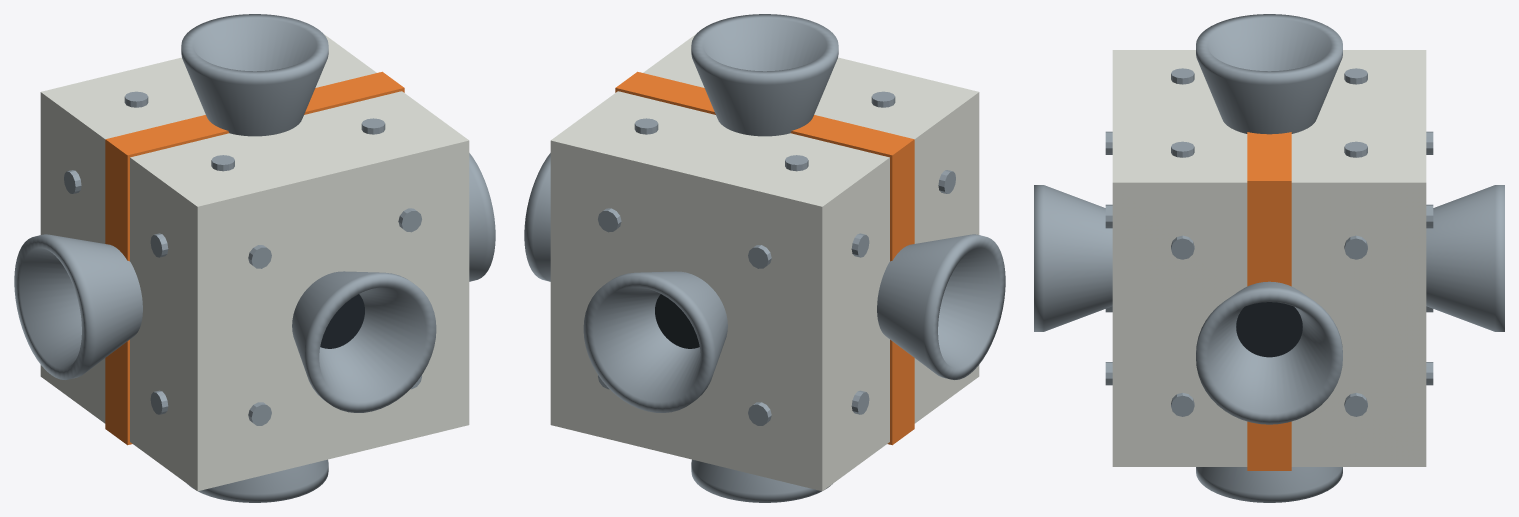
Rendered from rcs.glb.
3 renders of one model, left to right at view 1: azimuth 30°, elevation 25°; view 2: azimuth 150°, elevation 25°; view 3: azimuth 270°, elevation 25°, orthographic.
Visible parts, largest first — view 1: Integrated 12 kg monopropellant reservoir, Nozzle exhaust 2 1, Nozzle exhaust 0 -1, Nozzle exhaust 1 1, Service band, Nozzle exhaust 1 -1, Nozzle exhaust 0 1, Recessed injector.005; view 2: Integrated 12 kg monopropellant reservoir, Nozzle exhaust 2 -1, Nozzle exhaust 0 -1, Nozzle exhaust 1 1, Service band, Nozzle exhaust 1 -1, Nozzle exhaust 0 1, Recessed injector.004; view 3: Integrated 12 kg monopropellant reservoir, Nozzle exhaust 1 1, Nozzle exhaust 0 1, Nozzle exhaust 2 1, Nozzle exhaust 2 -1, Service band, Nozzle exhaust 1 -1, Recessed injector.001.
Part boxes in pixels (x1,y1,x2,y2): Integrated 12 kg monopropellant reservoir: (40, 34, 469, 491); Nozzle exhaust 2 1: (292, 271, 436, 412); Nozzle exhaust 0 -1: (14, 234, 142, 379); Nozzle exhaust 1 1: (181, 14, 328, 136); Service band: (105, 71, 404, 445); Nozzle exhaust 1 -1: (187, 459, 328, 502); Nozzle exhaust 0 1: (469, 153, 495, 281); Recessed injector.005: (320, 294, 364, 348); Integrated 12 kg monopropellant reservoir: (550, 34, 979, 491); Nozzle exhaust 2 -1: (583, 271, 727, 412); Nozzle exhaust 0 -1: (877, 234, 1005, 379); Nozzle exhaust 1 1: (691, 14, 838, 136); Service band: (615, 71, 914, 445); Nozzle exhaust 1 -1: (691, 459, 832, 502); Nozzle exhaust 0 1: (524, 153, 550, 281); Recessed injector.004: (655, 294, 699, 348); Integrated 12 kg monopropellant reservoir: (1112, 50, 1426, 466); Nozzle exhaust 1 1: (1196, 14, 1342, 134); Nozzle exhaust 0 1: (1196, 281, 1342, 424); Nozzle exhaust 2 1: (1034, 185, 1112, 331); Nozzle exhaust 2 -1: (1426, 185, 1504, 331); Service band: (1247, 132, 1291, 470); Nozzle exhaust 1 -1: (1196, 467, 1342, 502); Recessed injector.001: (1236, 302, 1302, 357).
Size of the model in its own units: 0.48 by 0.48 by 0.48.
